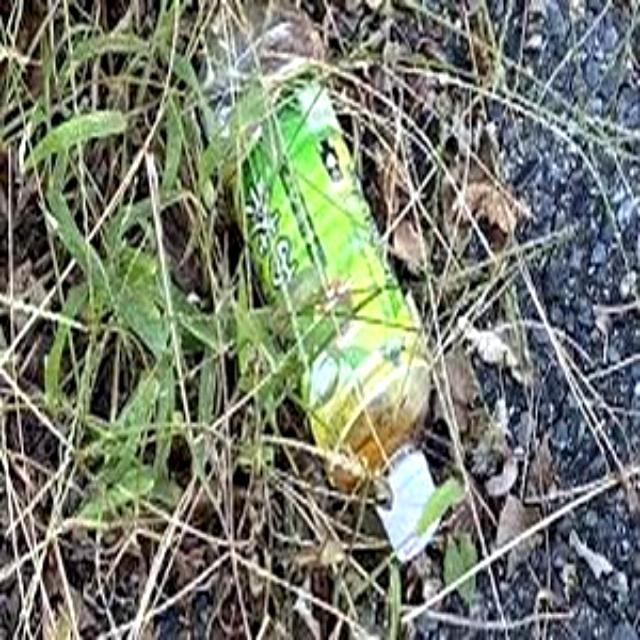Plastic: (214, 9, 444, 559)
